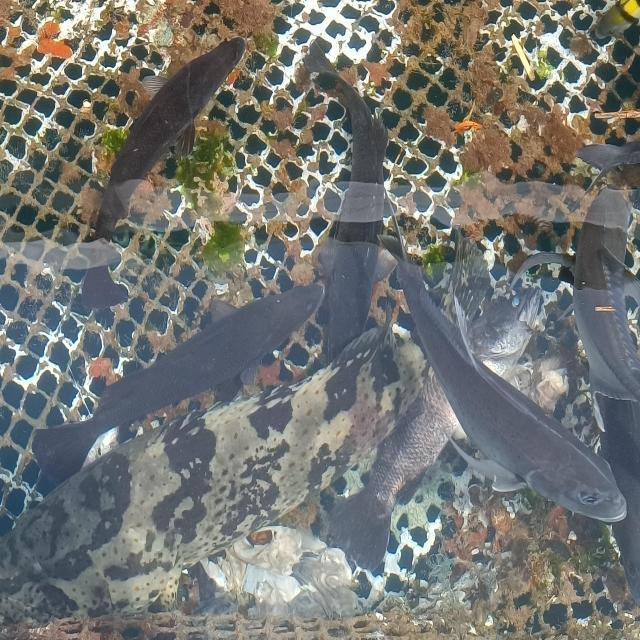ikan: (377, 214, 628, 526), (30, 279, 326, 501), (91, 35, 247, 244), (301, 37, 400, 365), (509, 185, 639, 431)
